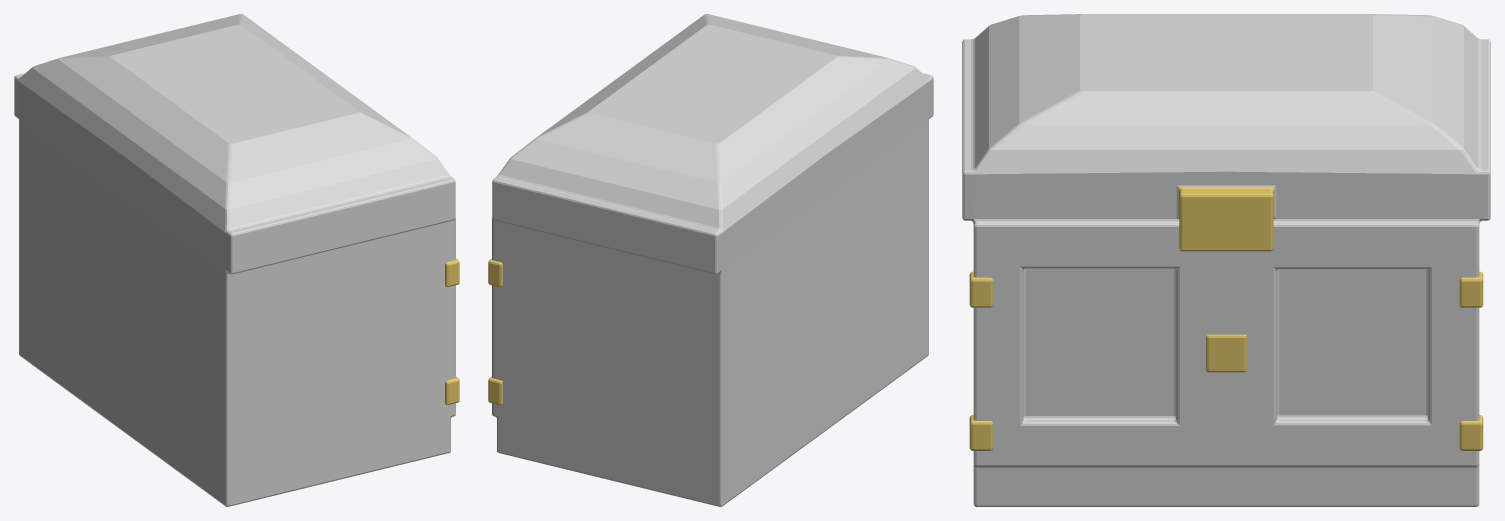
File: Chest.fbx
3 views of the same model, side by side, from view 1: azimuth 30°, elevation 25°; view 2: azimuth 150°, elevation 25°; view 3: azimuth 270°, elevation 25° (orthographic). The views are drawn at different scales.
Parts seen in each view (by area): view 1: Cube.005; view 2: Cube.005; view 3: Cube.005.
Boxes of the visible parts, x1,y1,x2,y2 form: Cube.005: (14, 14, 459, 506); Cube.005: (488, 14, 933, 506); Cube.005: (962, 14, 1490, 506).
Bounding box in the file's own units: 84.33 × 109 × 134.
